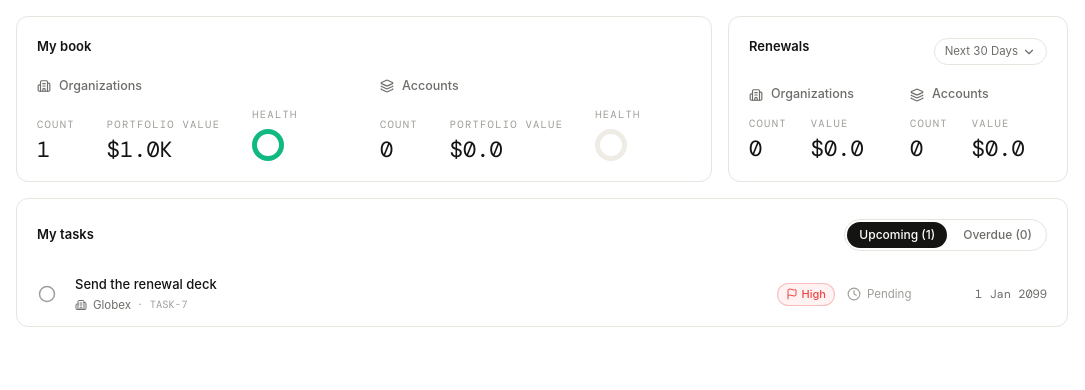
Scenario: CockpitView tick-off › puts the task back and says why when the backend refuses
Click the button named "Mark \"Send the renewal deck\" complete": (47, 294) [31,278,63,310]
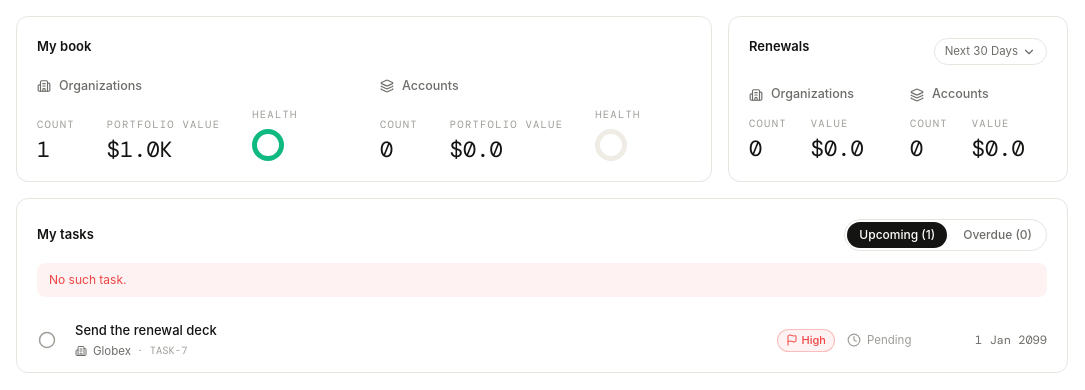
expect the text "Send the renewal deck" is shown: met, box [75,322,217,338]
expect the text "No such task." is shown: met, box [37,263,1047,297]
